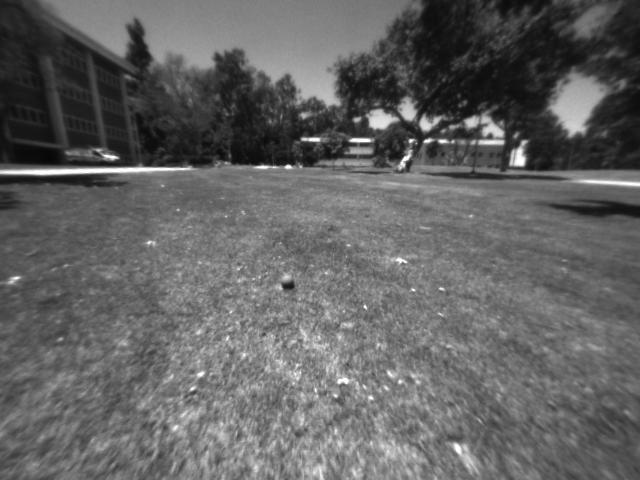dogtoy: (276, 270, 301, 292)
